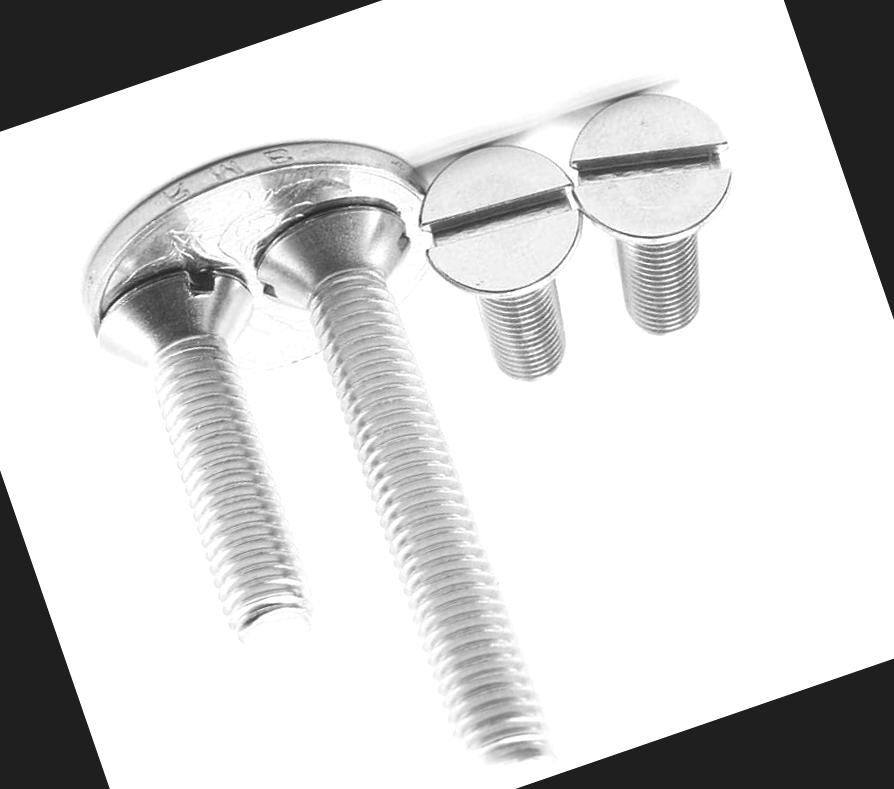slotted: (402, 117, 597, 316), (552, 63, 748, 255)
